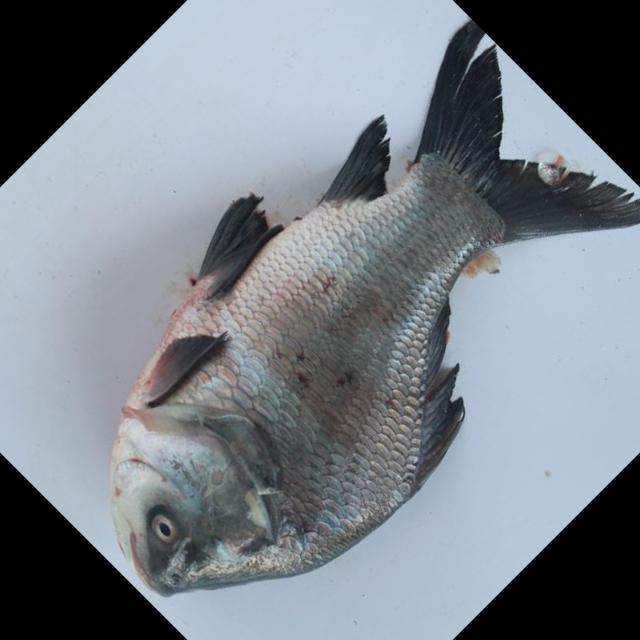Catla: (79, 17, 640, 597)
